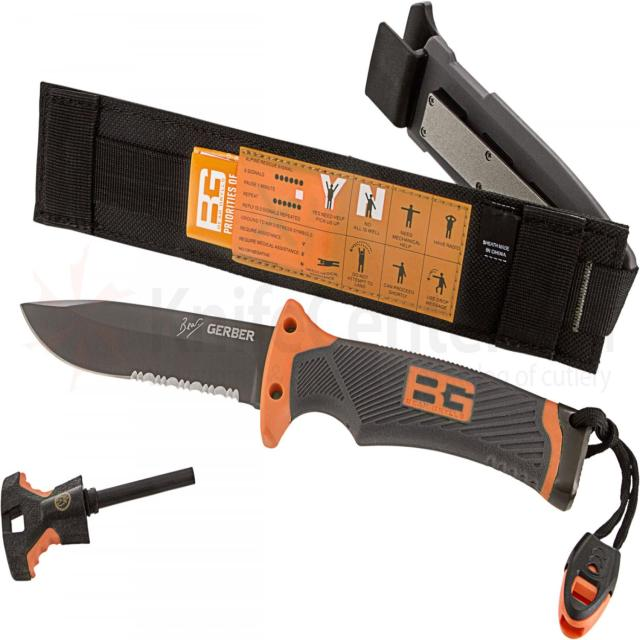knife: (20, 290, 591, 514)
